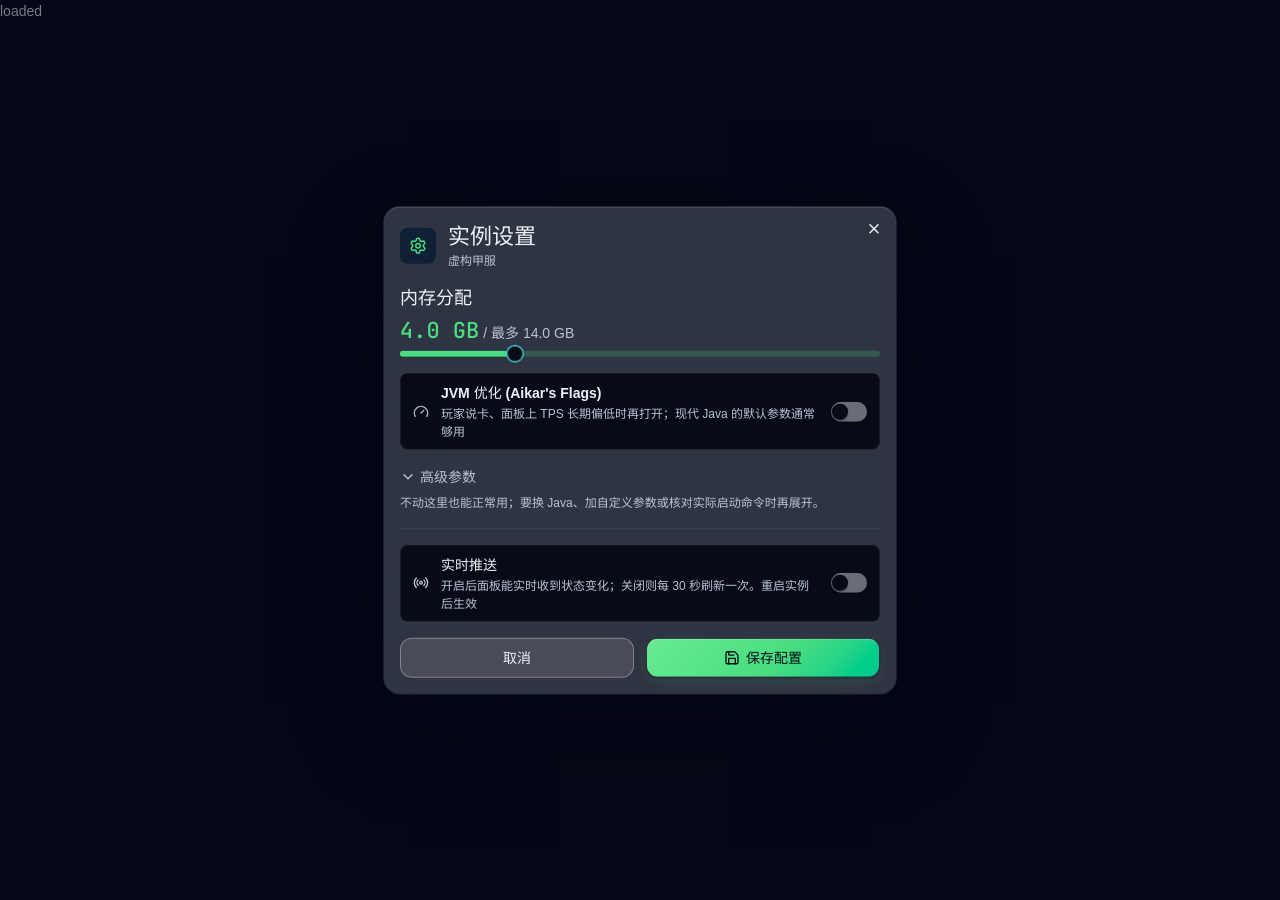
Test case: InstanceSettingsDialog › 结构化 jvmArgs 预填：maxMemory 数值(MB) 解析 + 自定义行保留（Aikar 关）
Click the button "高级参数" at (438, 477), box x1=400 y1=466 x2=476 y2=488
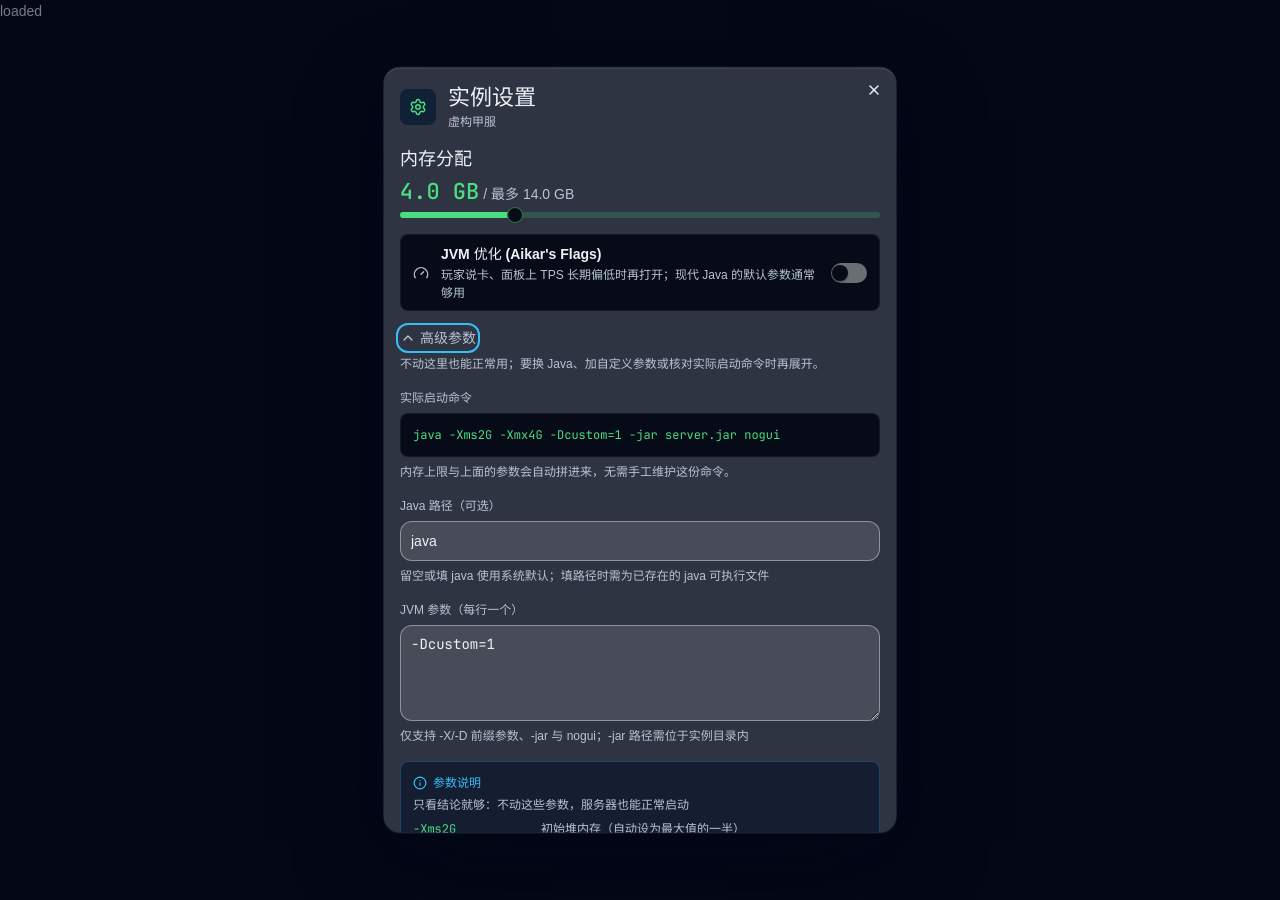
Check: the text "4.0 GB" is shown, box x1=400 y1=176 x2=479 y2=205
Check: the text "java -Xms2G -Xmx4G -Dcustom=1 -jar server.jar nogui" is shown, box x1=400 y1=413 x2=880 y2=457
